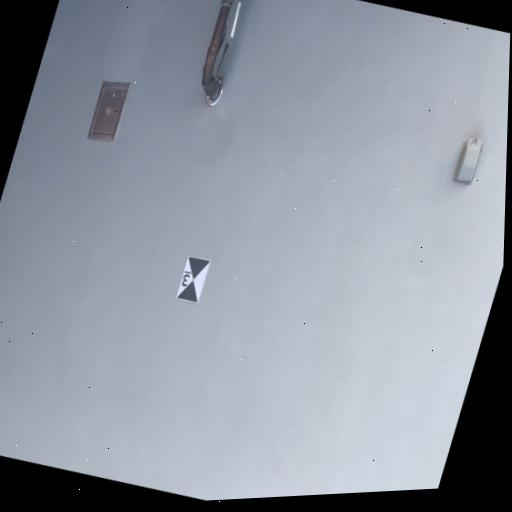target3: (175, 253, 211, 303)
